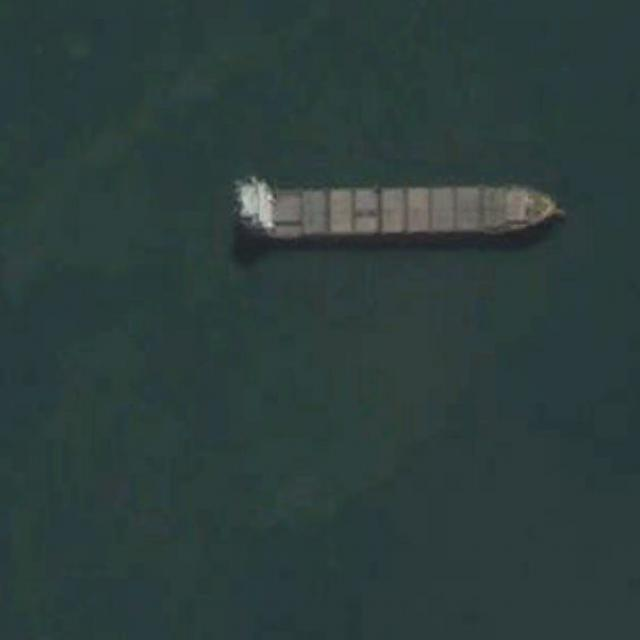boat: (225, 172, 569, 242)
